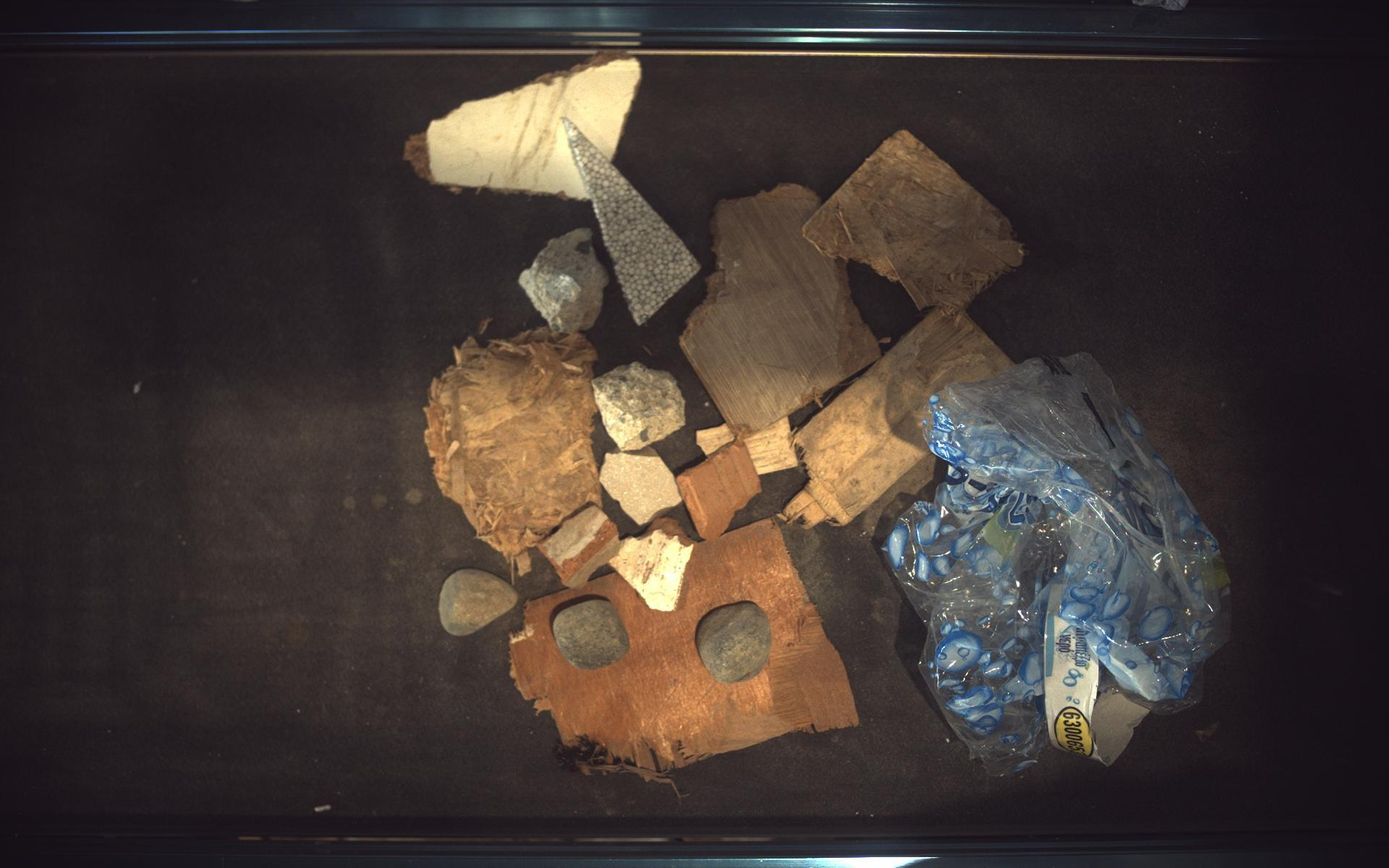brick: (677, 442, 763, 541), (612, 517, 695, 613), (538, 505, 620, 589)
concrete: (519, 227, 609, 333), (592, 362, 686, 451)
foam: (563, 116, 701, 325)
general_w: (875, 355, 1234, 781)
stone: (697, 603, 773, 685), (553, 599, 630, 671), (439, 569, 518, 637)
tile: (600, 454, 683, 526), (744, 417, 799, 475), (697, 425, 736, 456)
wood: (511, 519, 860, 783), (681, 184, 883, 431), (797, 309, 1014, 525), (424, 326, 601, 574), (804, 129, 1026, 312), (407, 53, 642, 199)
